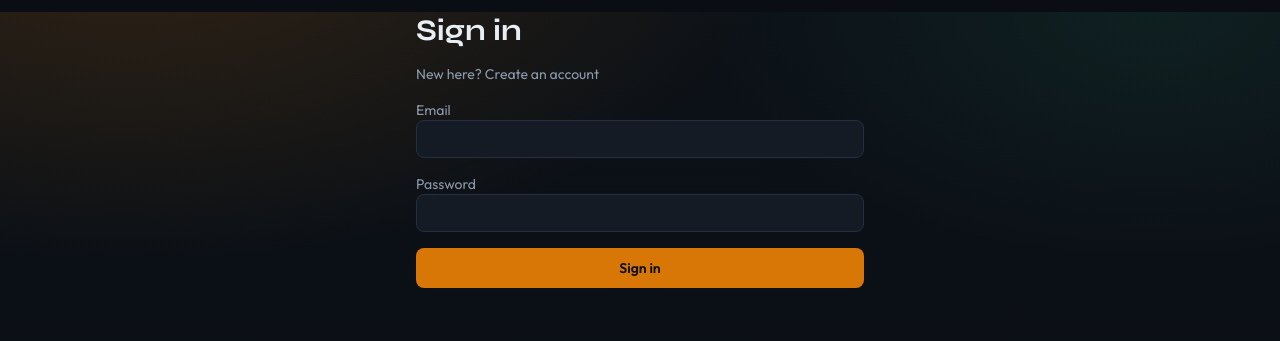
Test: LoginForm › shows an error on failed login
Type "ada@example.com" into the field labelled "Email". click: (640, 139)
box: [416,120,864,158]
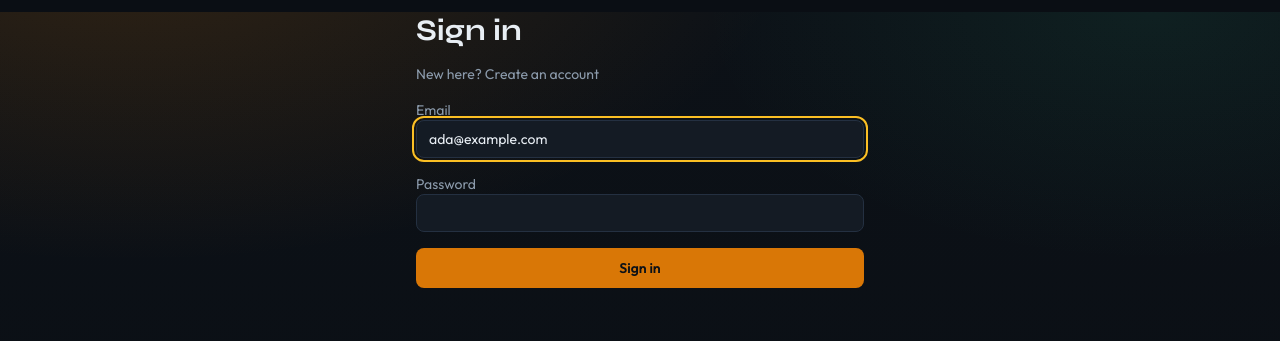
Type "wrong-pass" into the password field labelled "Password". click: (640, 213)
box: [416,194,864,232]
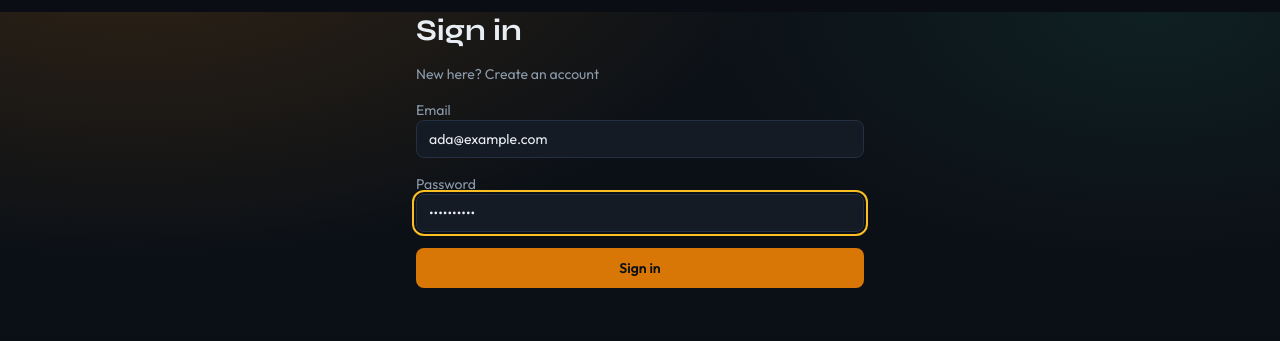
Click the button "Sign in". click: click(640, 268)
box: [416,248,864,288]
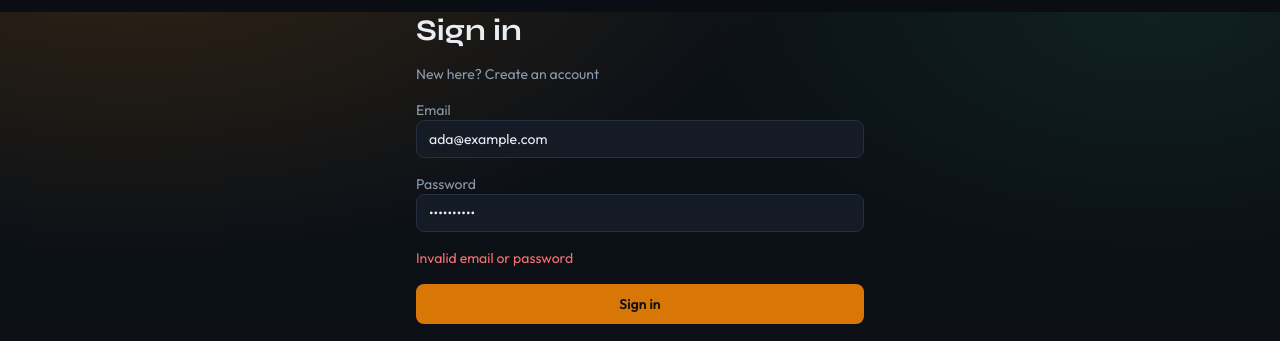
Now the message reads "Invalid email or password", box [416,249,573,267]
